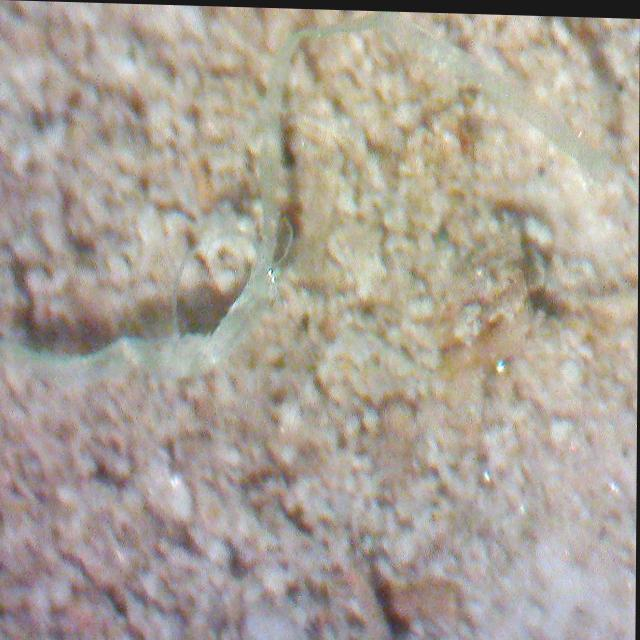microplastic: (0, 8, 621, 383)
